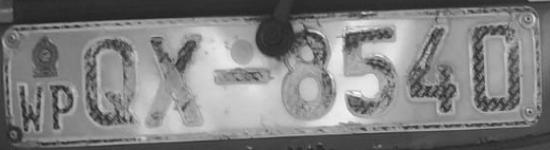-: (211, 61, 272, 95)
0: (468, 21, 524, 117)
4: (403, 20, 465, 122)
5: (342, 20, 400, 123)
8: (273, 28, 338, 124)
P: (48, 80, 76, 133)
Q: (81, 34, 143, 130)
W: (16, 74, 52, 135)
X: (144, 31, 212, 136)
